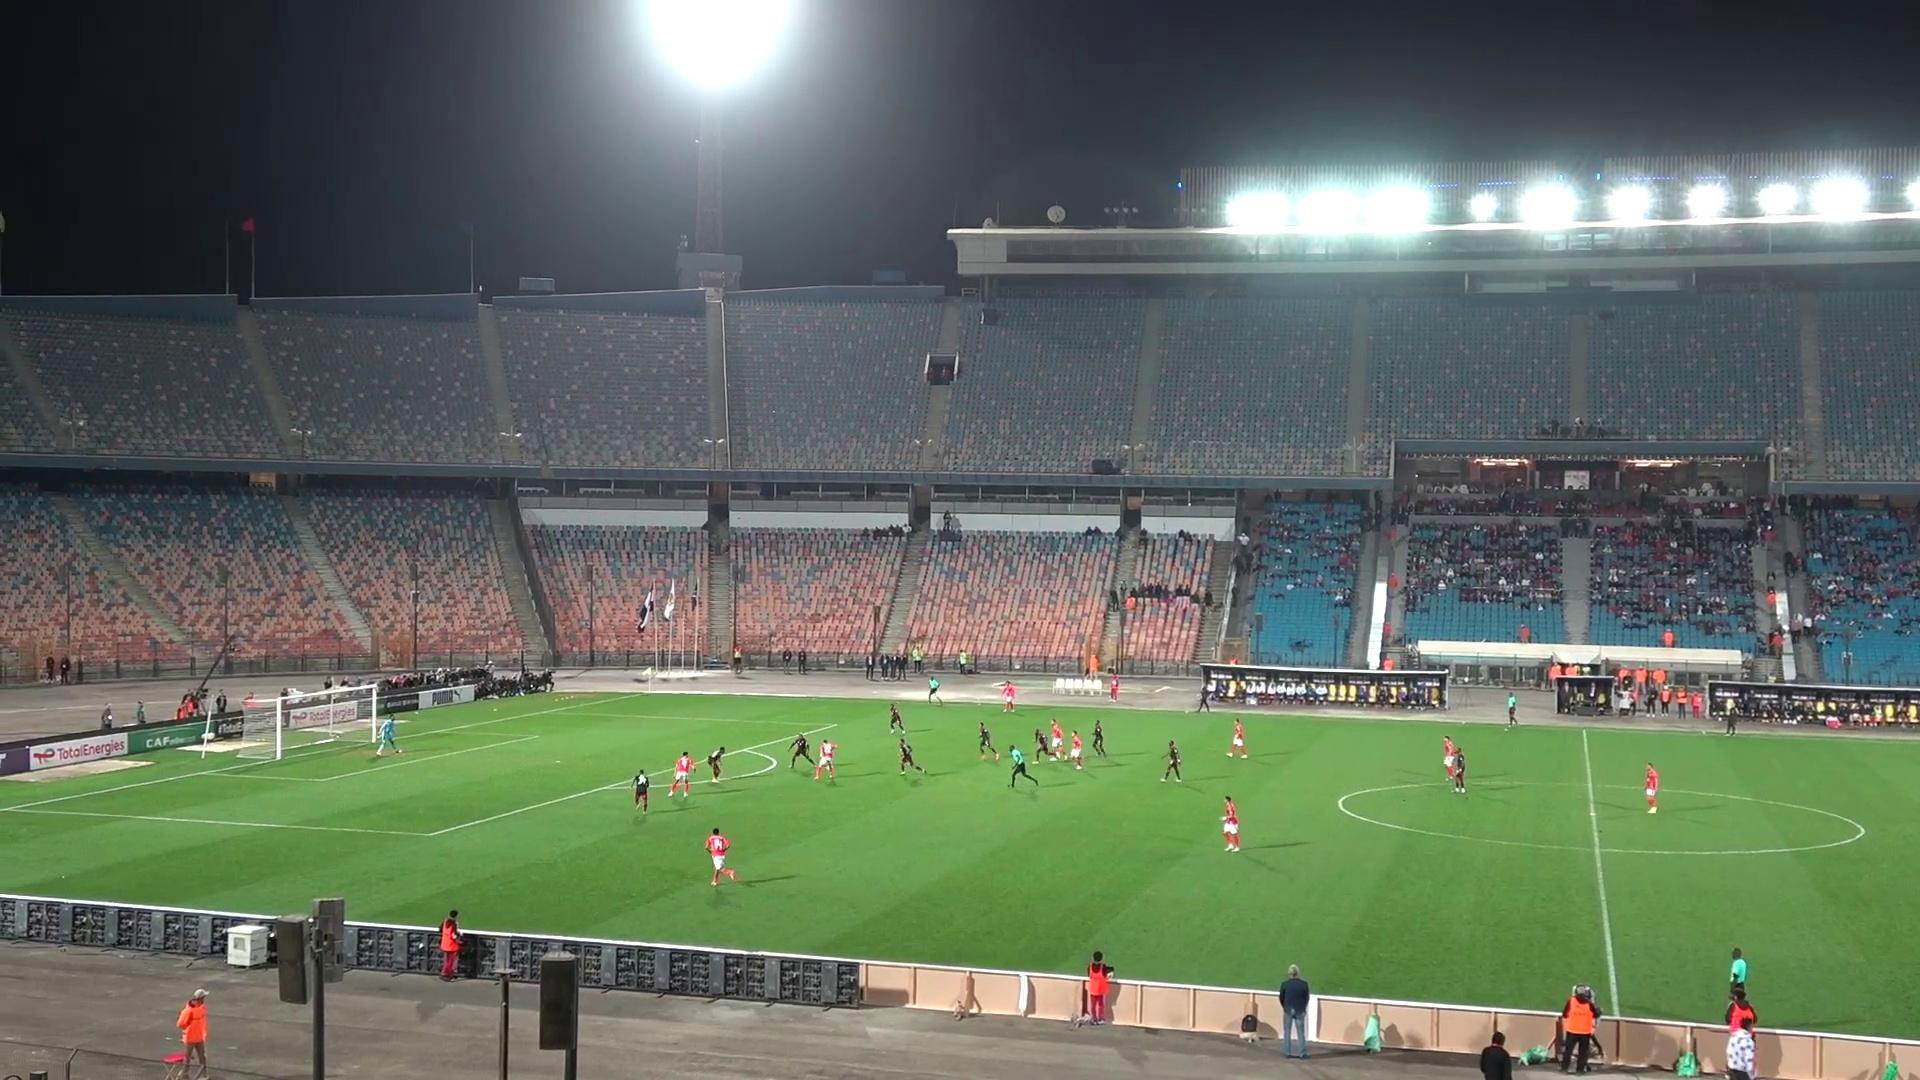GK2: (375, 713, 402, 756)
Refree: (1727, 947, 1750, 1010), (1007, 745, 1038, 787), (1503, 688, 1520, 728), (924, 675, 942, 702)
Team1: (704, 828, 738, 887), (669, 752, 696, 799), (1221, 795, 1241, 852), (1441, 736, 1466, 778), (1056, 731, 1083, 769), (814, 738, 837, 781), (1225, 719, 1247, 757), (1644, 764, 1660, 814), (1048, 717, 1065, 760), (1000, 680, 1019, 712)
Team2: (1158, 740, 1182, 782), (1444, 749, 1466, 793), (898, 738, 924, 774), (977, 723, 1001, 761), (789, 735, 814, 770), (632, 769, 651, 814), (704, 746, 728, 783), (1088, 719, 1106, 757), (1033, 728, 1054, 761), (887, 702, 907, 736)
